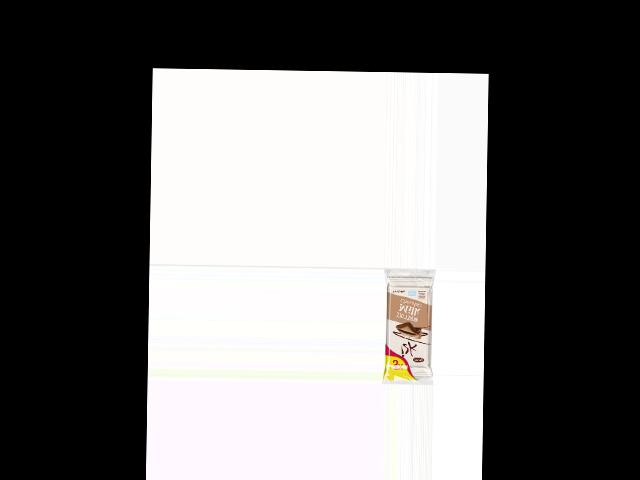chocolate: (382, 279, 436, 385)
